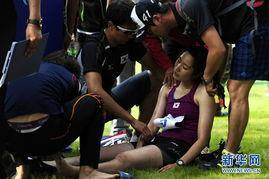Fall-Detected: (77, 39, 218, 177)
